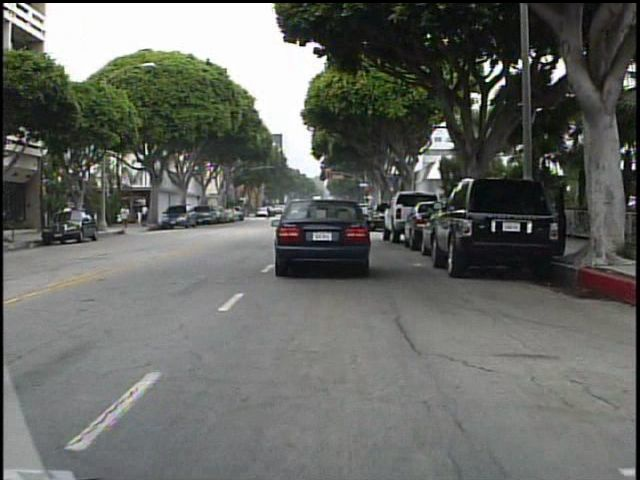person: (120, 201, 135, 234), (140, 201, 153, 229), (265, 202, 276, 222)
